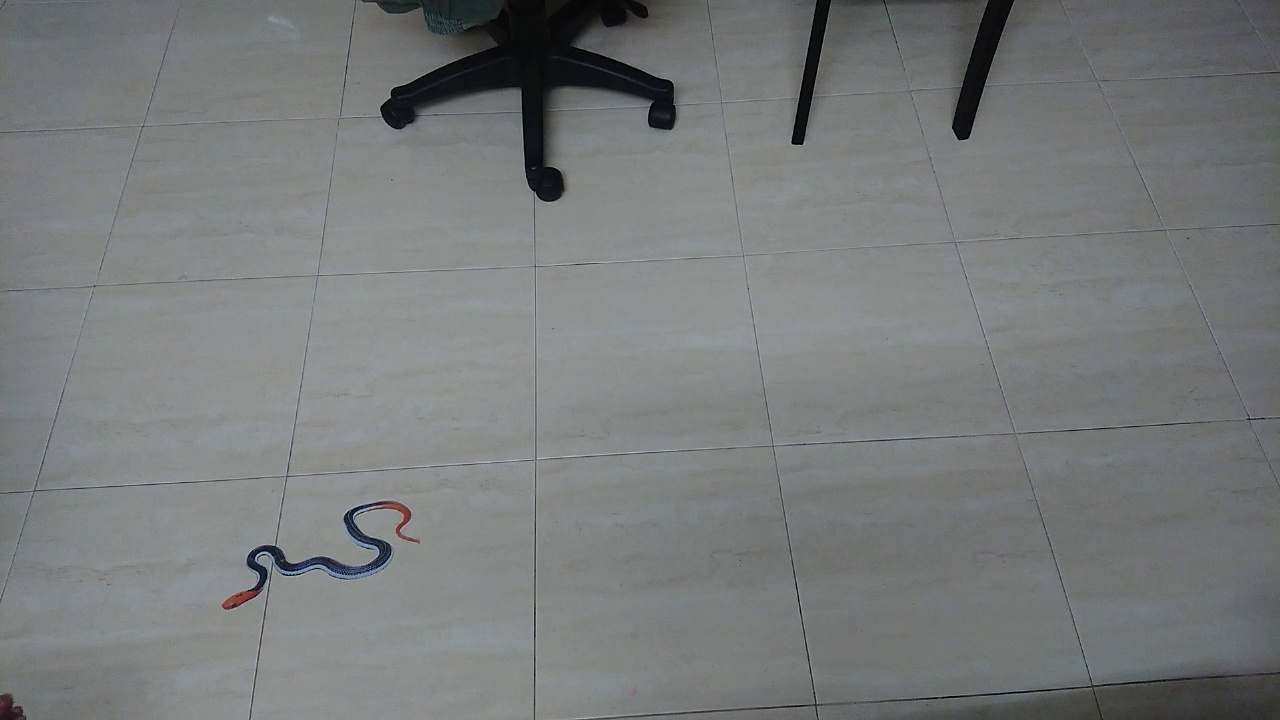snake: (203, 481, 429, 622)
